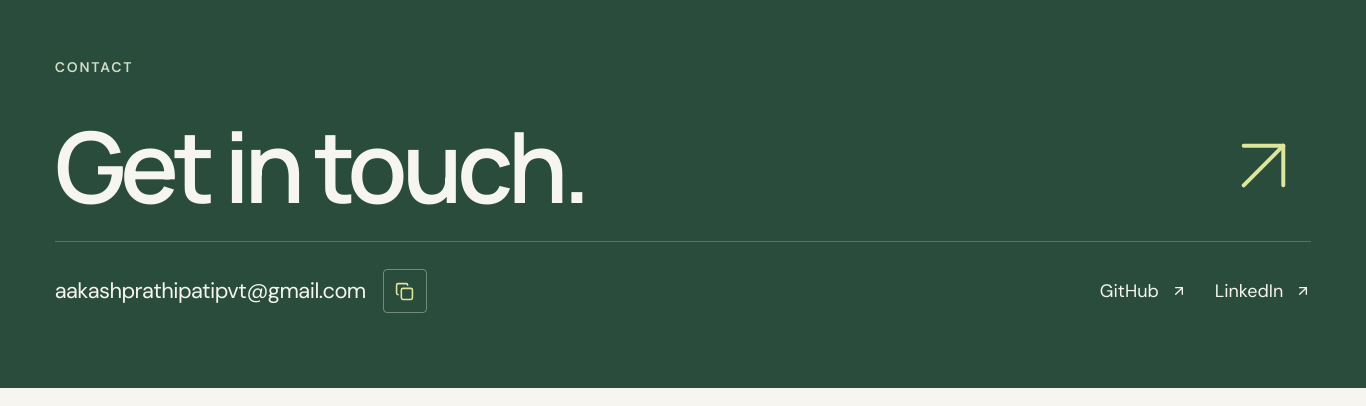
Scenario: clipboard failure and concurrent requests › explains denied clipboard access without launching a mail application
The width and height of the screenshot is (1366, 406).
Step 1. Click the button named "Copy email address" → (405, 291), box [383,269,427,313]
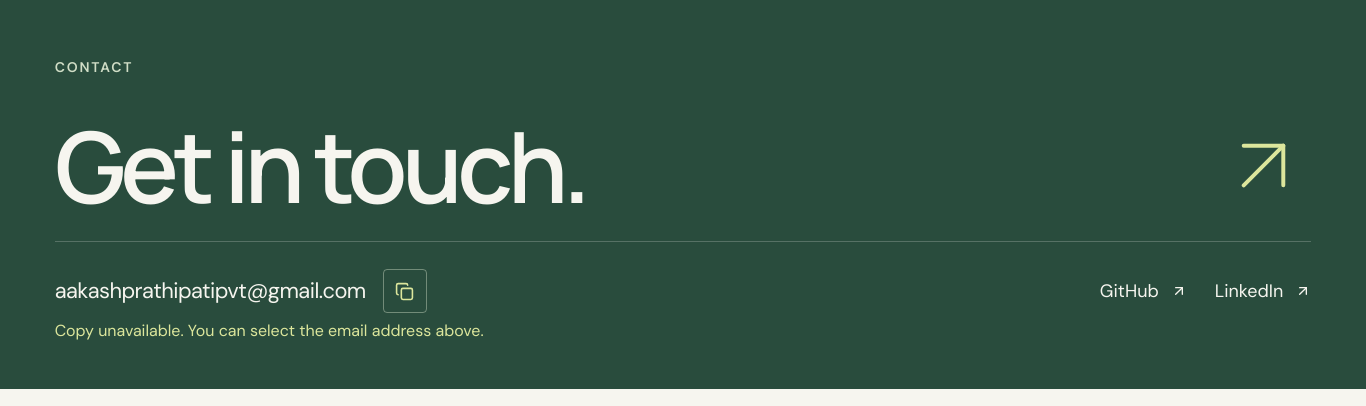
Expected: the text "Copy unavailable. You can select the email address above." is shown, [55,318,484,344]
